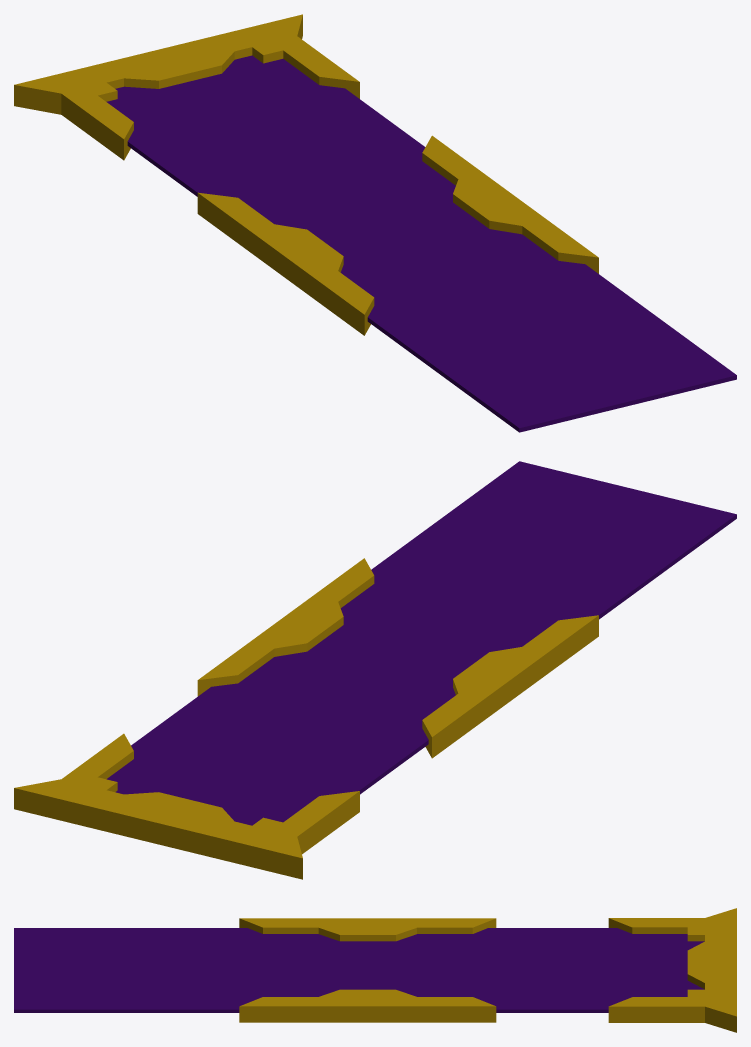
Rendered from bridge.fbx.
The picture shows the model from 3 angles, top to bottom: view 1: azimuth 30°, elevation 25°; view 2: azimuth 150°, elevation 25°; view 3: azimuth 270°, elevation 25°; orthographic projection. The views are drawn at different scales.
Parts seen in each view (by area): view 1: bridge, bridge_borders; view 2: bridge, bridge_borders; view 3: bridge, bridge_borders.
Part boxes in pixels (x1,y1,x2,y2): bridge: (106,55,736,432); bridge_borders: (14,14,598,335); bridge: (106,461,736,825); bridge_borders: (14,558,598,879); bridge: (14,928,704,1012); bridge_borders: (239,908,736,1032).
Bounding box in the file's own units: 674 × 47.4 × 1898.
